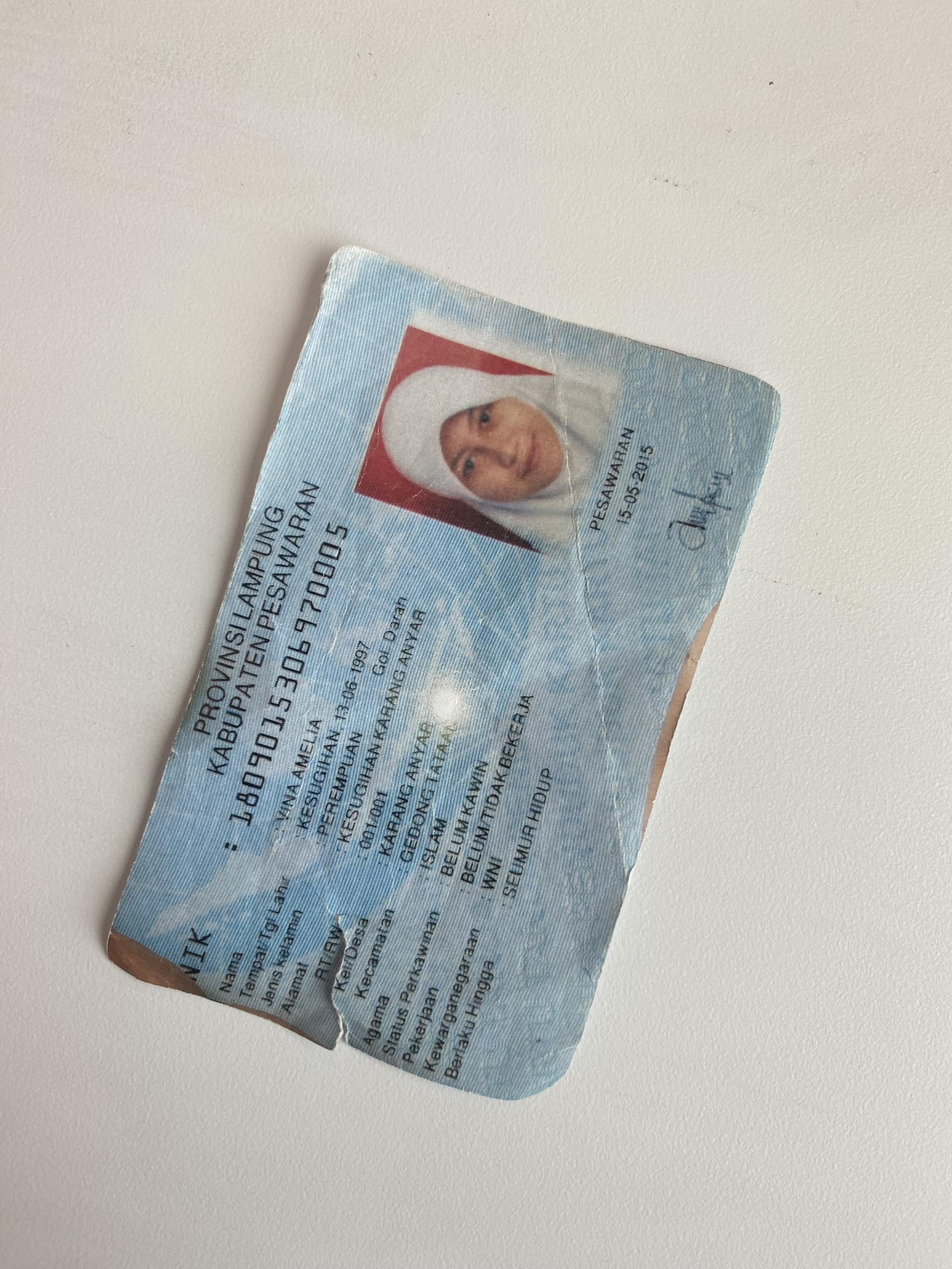ktp: (91, 234, 795, 1126)
